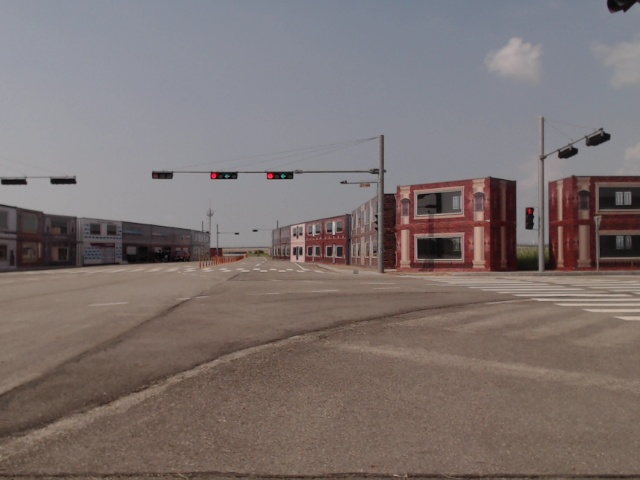left_green_4: (211, 173, 237, 180), (267, 172, 293, 179)
